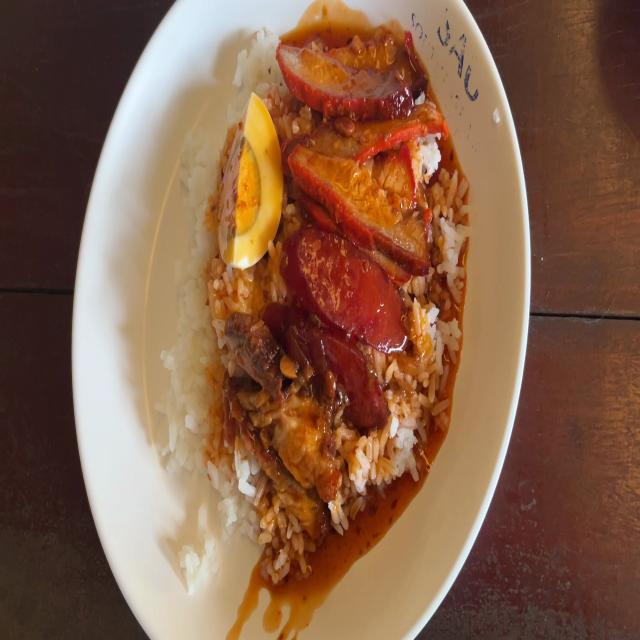01boiled_egg: (219, 98, 282, 258)
01chainese_sausage: (274, 234, 406, 414)
01crispy_pork: (225, 318, 326, 513)
01red_pork: (282, 46, 437, 236)
01red_pork_and_crispy_pork: (179, 42, 454, 553)
01rice: (169, 281, 228, 515)
